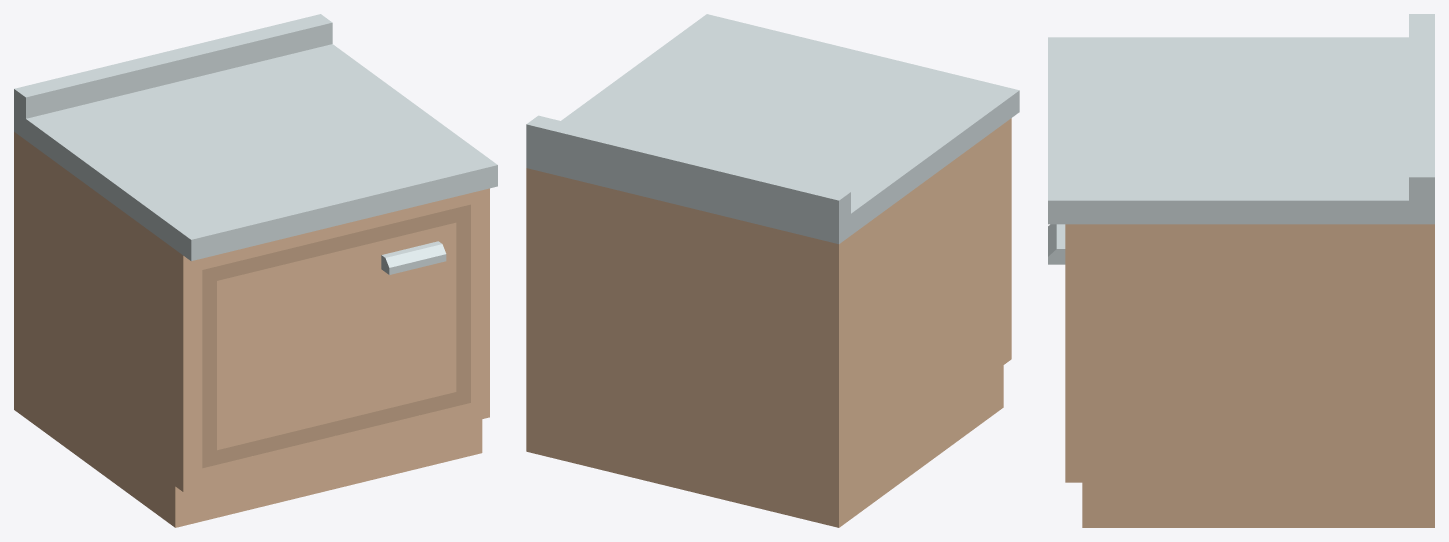
The model's file is kn-kitchen-cabinet.glb.
3 renders of one model, left to right at view 1: azimuth 30°, elevation 25°; view 2: azimuth 150°, elevation 25°; view 3: azimuth 270°, elevation 25°, orthographic. The views are drawn at different scales.
Parts seen in each view (by area): view 1: kitchenCabinet(Clone), door; view 2: kitchenCabinet(Clone); view 3: kitchenCabinet(Clone).
Boxes of the visible parts, x1,y1,x2,y2 form: kitchenCabinet(Clone): [14, 14, 497, 527]; door: [202, 204, 470, 468]; kitchenCabinet(Clone): [526, 14, 1019, 527]; kitchenCabinet(Clone): [1048, 14, 1434, 527].
Bounding box in the file's own units: 1 × 1 × 1.
